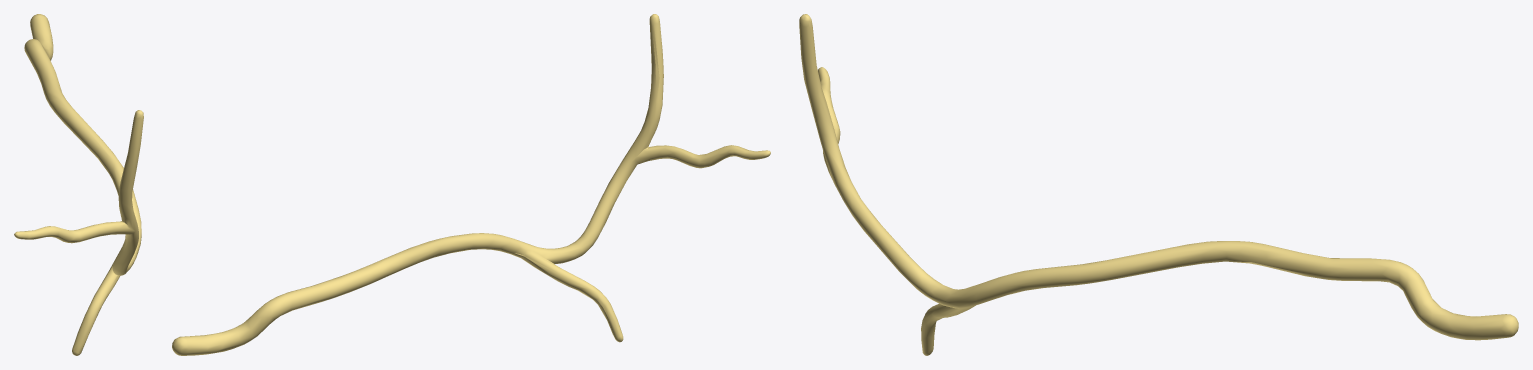
The model's file is fma52644_fj3925.glb.
3 views of the same model, side by side, from view 1: azimuth 30°, elevation 25°; view 2: azimuth 150°, elevation 25°; view 3: azimuth 270°, elevation 25° (orthographic). The views are drawn at different scales.
Parts seen in each view (by area): view 1: FMA52644_FJ3925; view 2: FMA52644_FJ3925; view 3: FMA52644_FJ3925.
Part boxes in pixels (left/top/right/bottom): FMA52644_FJ3925: left=14, top=14, right=143, bottom=355; FMA52644_FJ3925: left=172, top=14, right=770, bottom=355; FMA52644_FJ3925: left=799, top=14, right=1518, bottom=355.
Bounding box in the file's own units: 0.023 × 0.02 × 0.0373.
